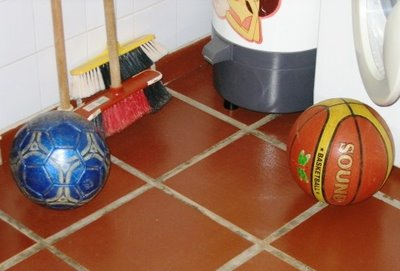basketball: (288, 98, 395, 207)
